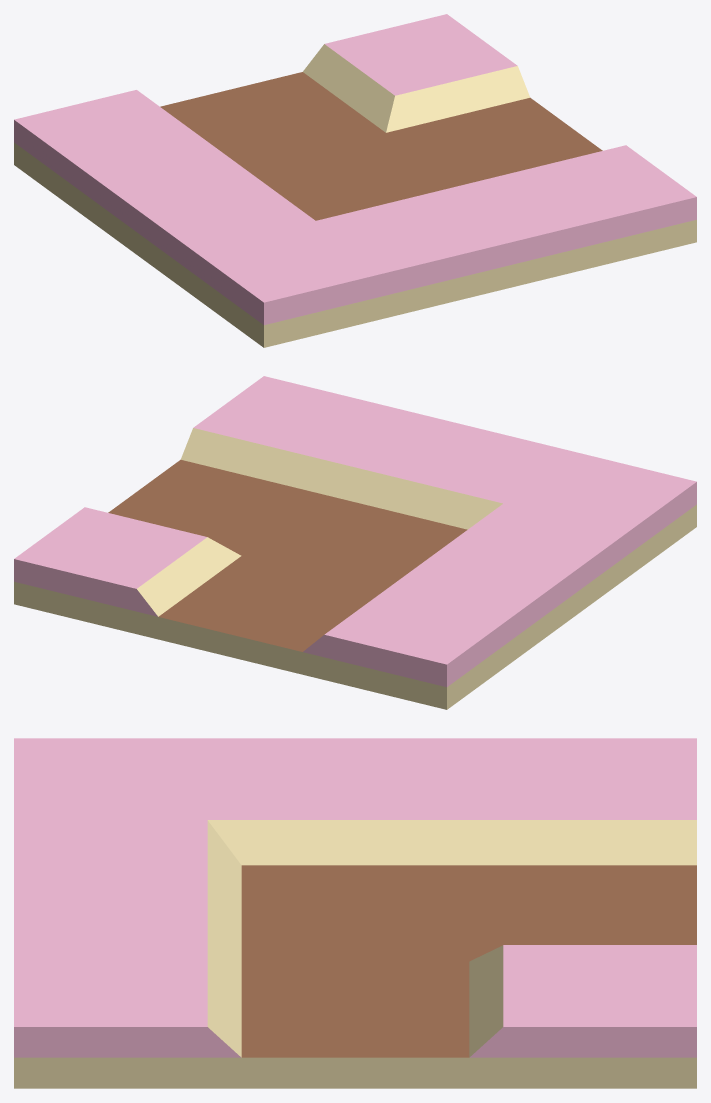
File: CandylandRiverCurve.fbx
3 views of the same model, one above another, from view 1: azimuth 30°, elevation 25°; view 2: azimuth 150°, elevation 25°; view 3: azimuth 270°, elevation 25° (orthographic). The views are drawn at different scales.
Visible parts, largest first — view 1: CandylandRiverCurve; view 2: CandylandRiverCurve; view 3: CandylandRiverCurve.
Boxes of the visible parts, box(x1,y1,x2,y2) form: CandylandRiverCurve: box(14, 14, 696, 347); CandylandRiverCurve: box(14, 376, 696, 709); CandylandRiverCurve: box(14, 738, 696, 1088).
Bounding box in the file's own units: 1 × 0.1 × 1.
